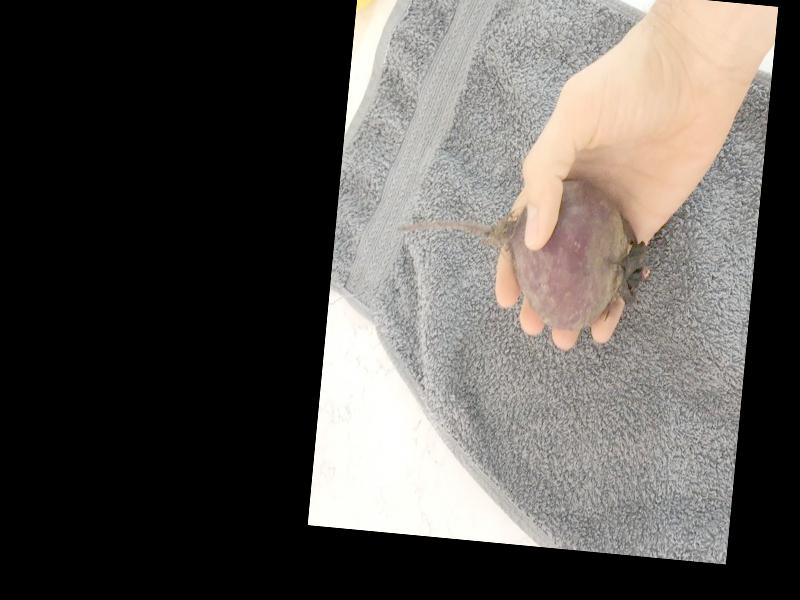Beet: (389, 162, 651, 338)
